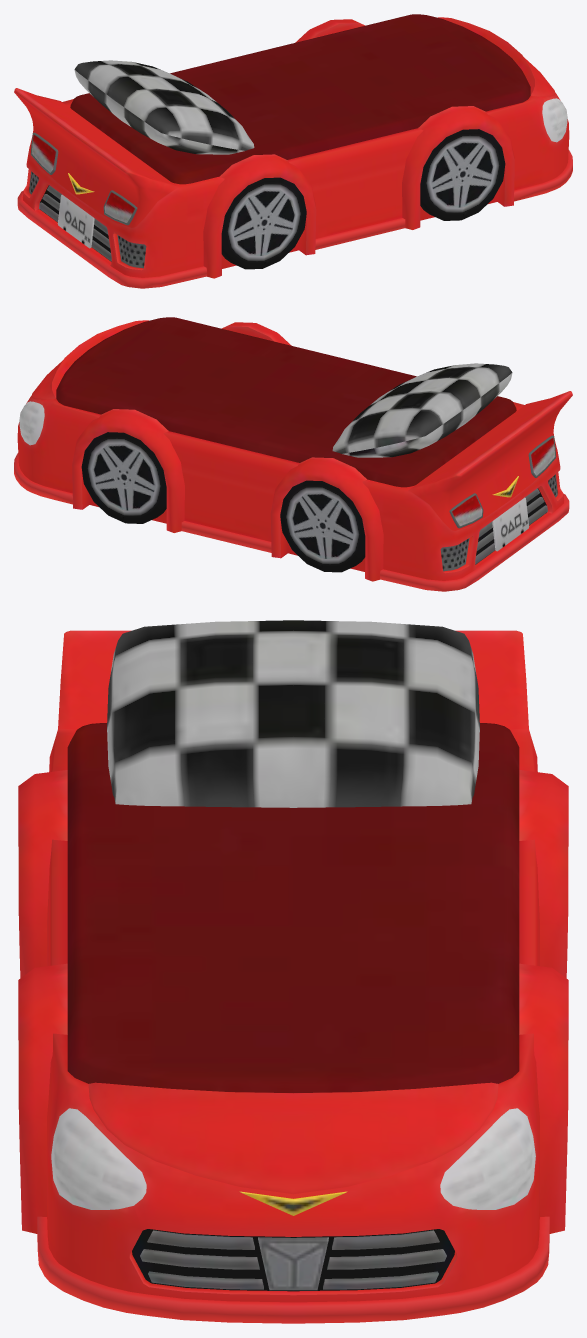
3 renders of one model, top to bottom at view 1: azimuth 30°, elevation 25°; view 2: azimuth 150°, elevation 25°; view 3: azimuth 270°, elevation 25°, orthographic. The views are drawn at different scales.
Size of the model in its own units: 19.71 by 6.13 by 9.91.
1 material, 1 textured.
